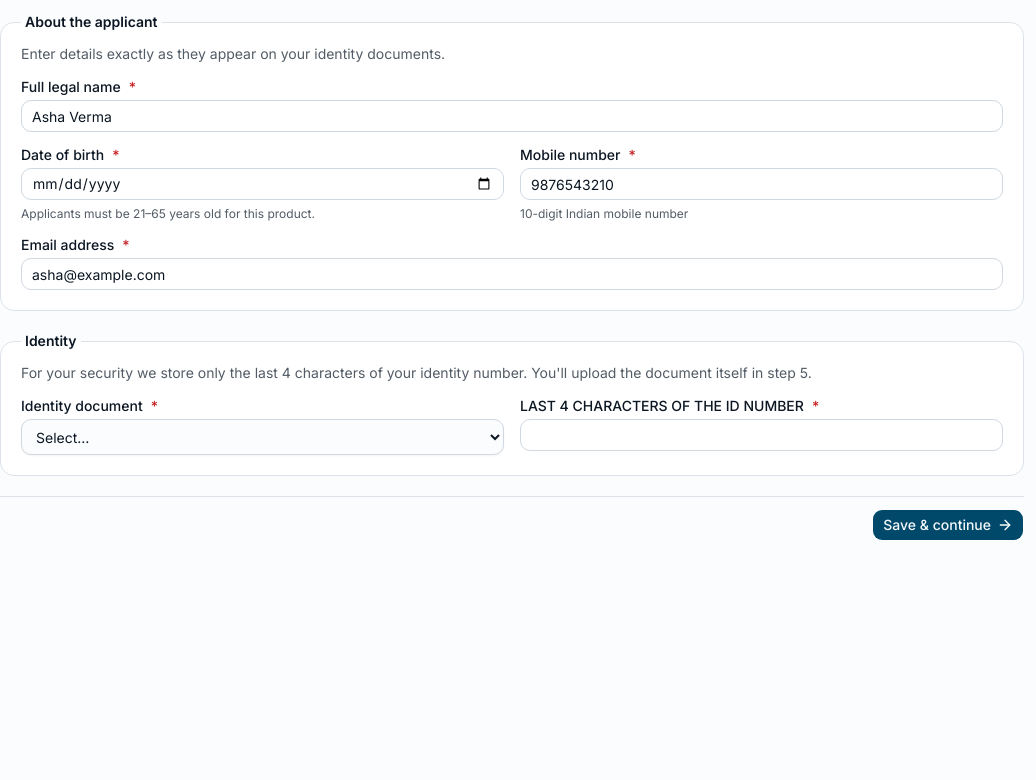
Test: <StepPersonal /> › maps server field errors onto the form
In the date field labelled "Date of birth *": (262, 184) [21,168,504,200], type "1990-05-01"
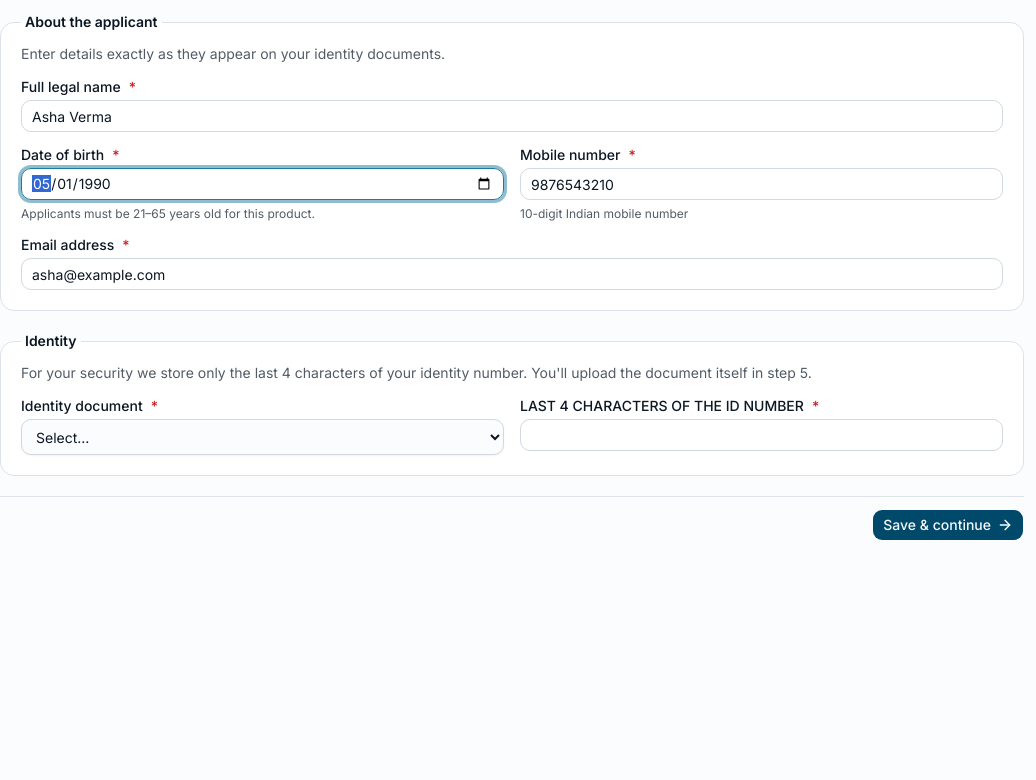
Select "PAN card" in the dropdown labelled "Identity document *": (262, 437) [21,419,504,455]
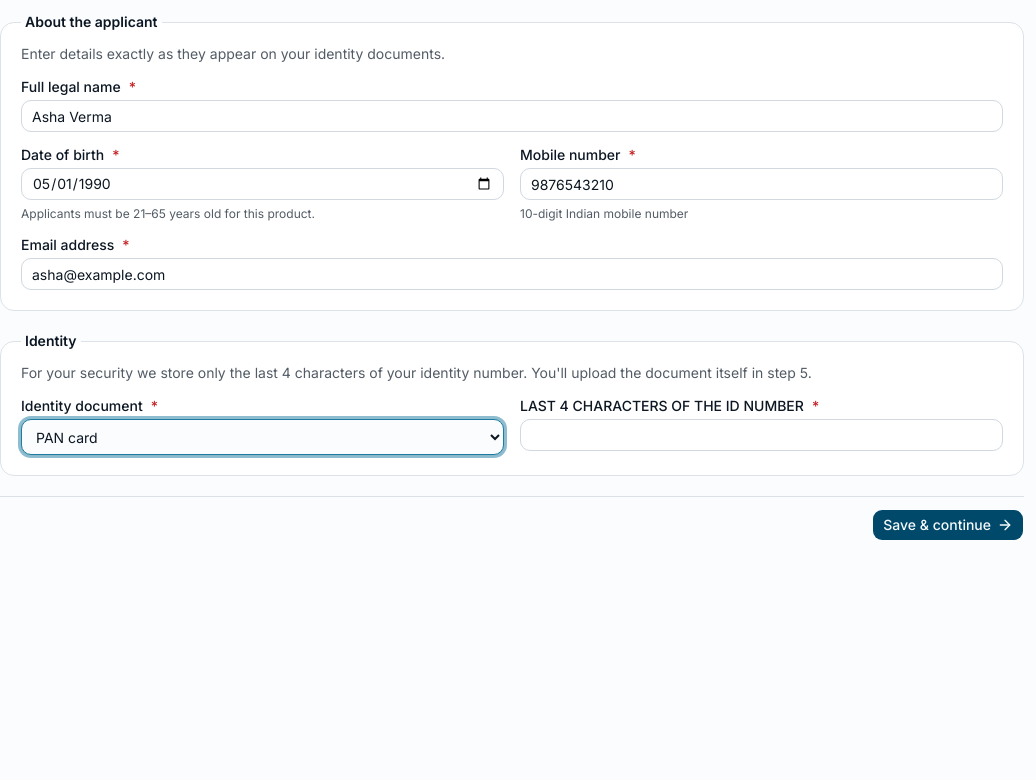
In the field labelled "Last 4 characters of the ID number *": (762, 435) [520,419,1003,451], type "ab12"
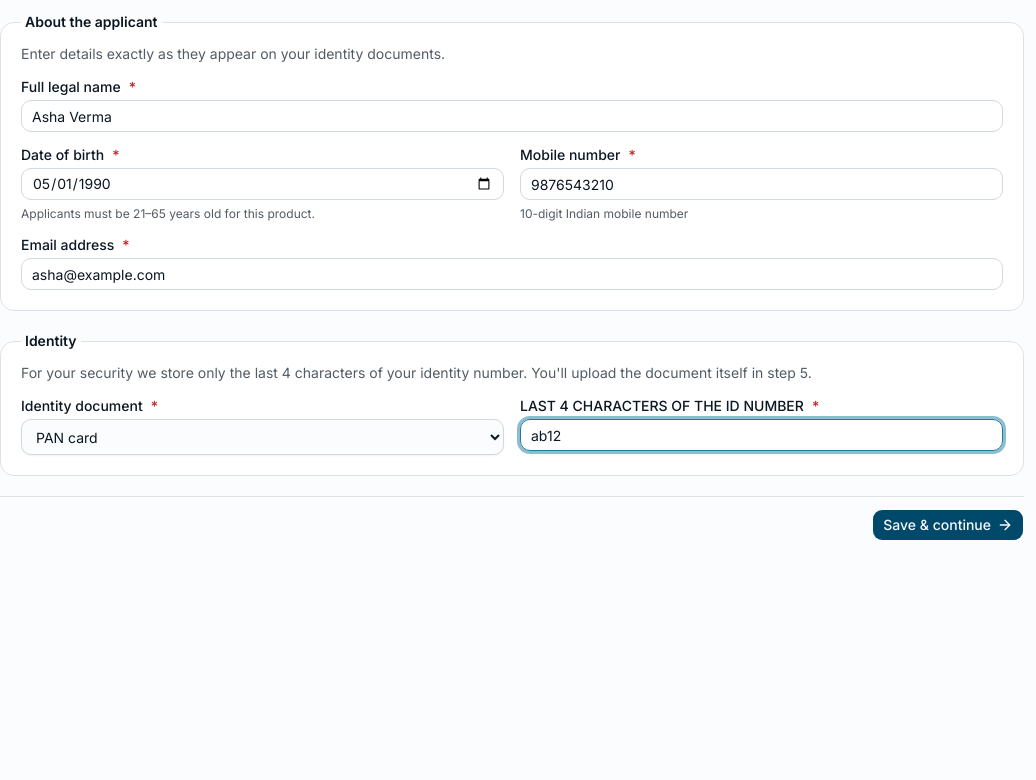
Click the button "Save & continue": (948, 525) [872,509,1024,541]
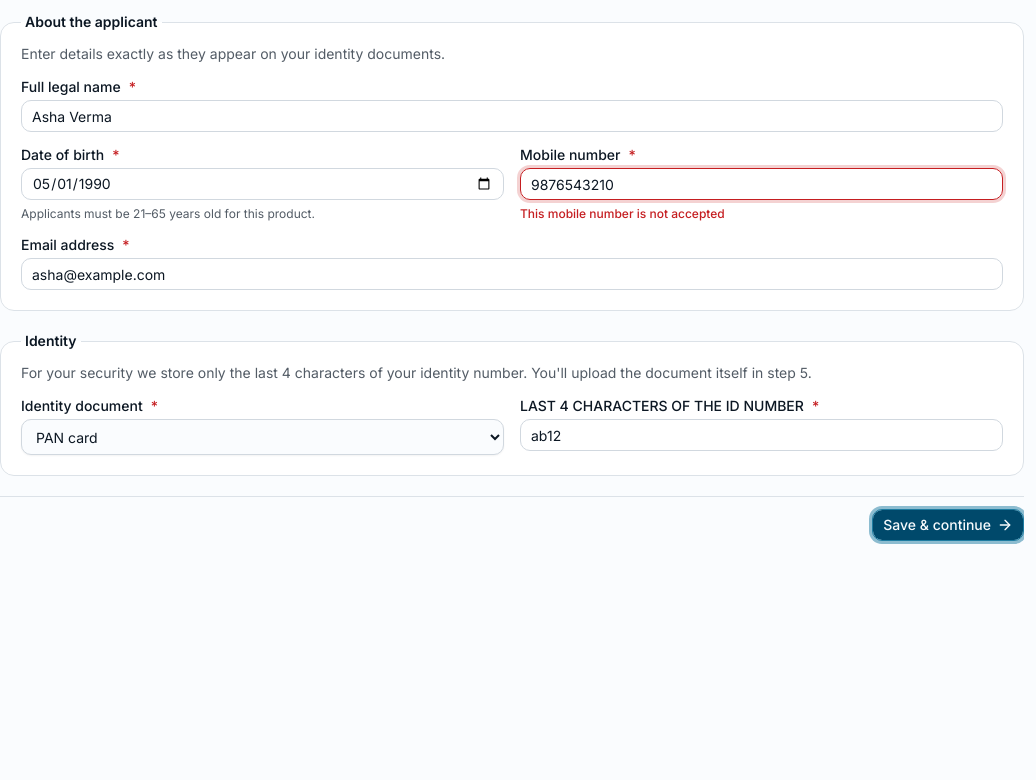
expect the text "This mobile number is not accepted" is shown: met, box [520,206,725,221]
